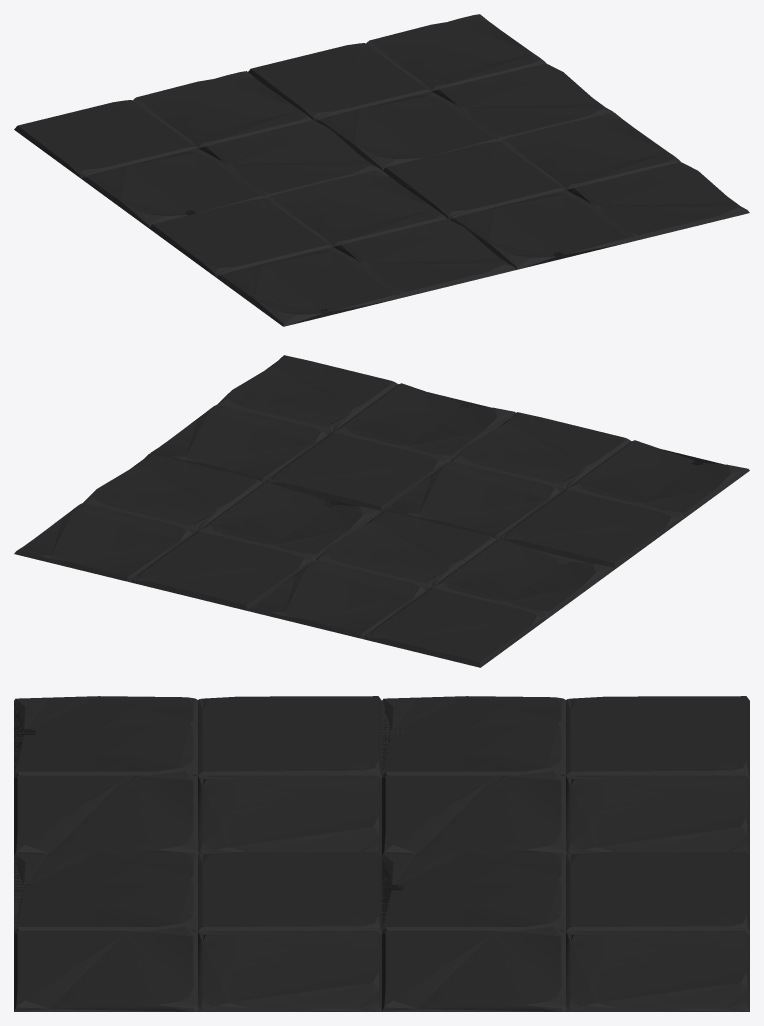
Rendered from floor.obj.
The picture shows the model from 3 angles, top to bottom: view 1: azimuth 30°, elevation 25°; view 2: azimuth 150°, elevation 25°; view 3: azimuth 270°, elevation 25°; orthographic projection. The views are drawn at different scales.
Visible parts, largest first — view 1: floor_tile_set; view 2: floor_tile_set; view 3: floor_tile_set.
Part boxes in pixels (x1,y1,x2,y2): floor_tile_set: (14,14,749,326); floor_tile_set: (14,355,749,667); floor_tile_set: (14,696,749,1011).
Size of the model in its own units: 5 by 0.0741 by 5.
1 material, 1 textured.
